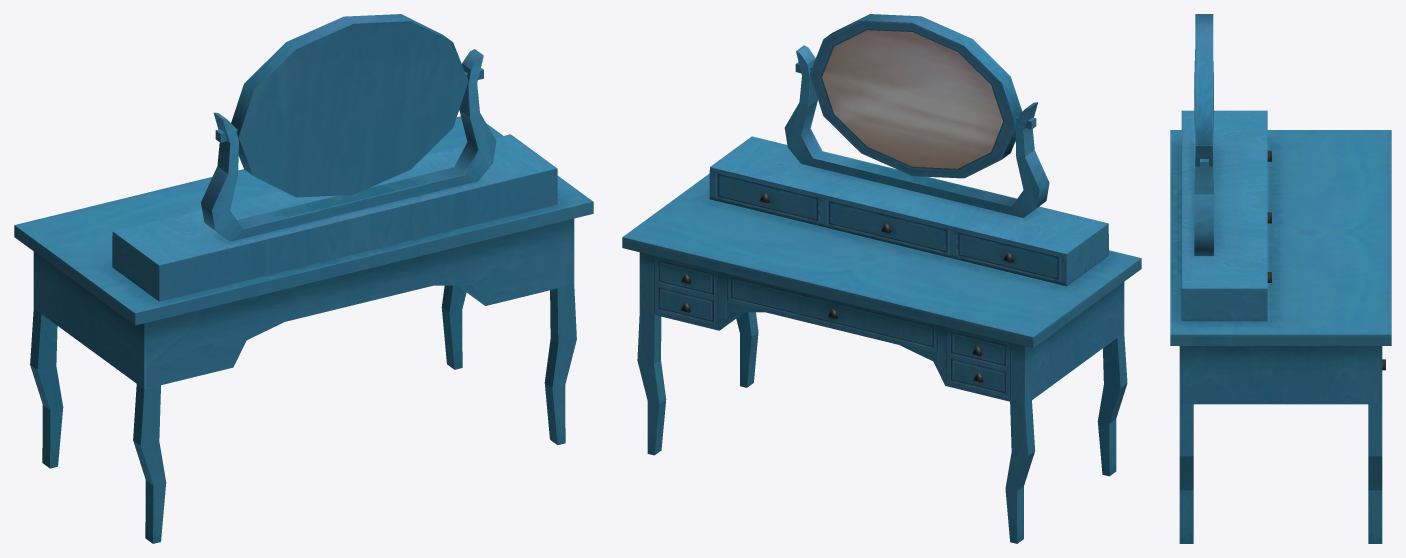
File: furni_0200039.FBX
3 renders of one model, left to right at view 1: azimuth 30°, elevation 25°; view 2: azimuth 150°, elevation 25°; view 3: azimuth 270°, elevation 25°, orthographic. The views are drawn at different scales.
Parts seen in each view (by area): view 1: furni_0200039; view 2: furni_0200039; view 3: furni_0200039.
Boxes of the visible parts, <box> form: furni_0200039: <box>14,14,593,543</box>; furni_0200039: <box>622,14,1141,543</box>; furni_0200039: <box>1170,14,1391,543</box>.
Bounding box in the file's own units: 160 × 154 × 73.04.
